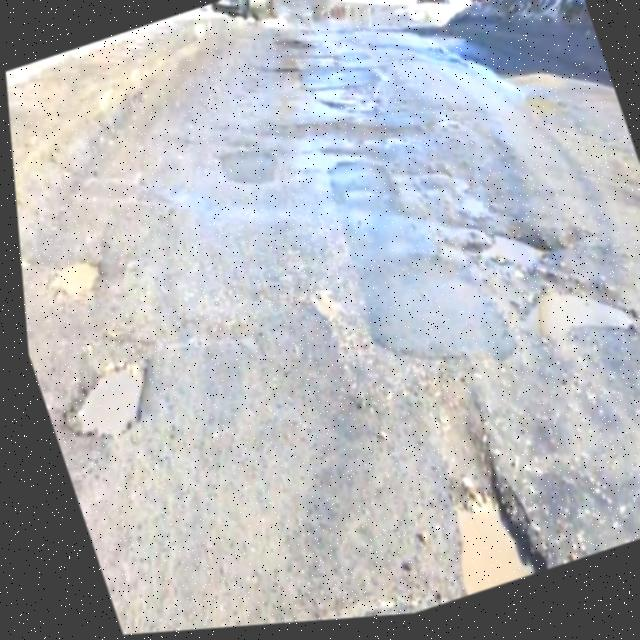Pothole: (386, 441, 583, 612), (489, 251, 640, 388), (31, 323, 167, 468), (450, 210, 562, 305), (28, 244, 114, 327), (292, 288, 339, 334)
